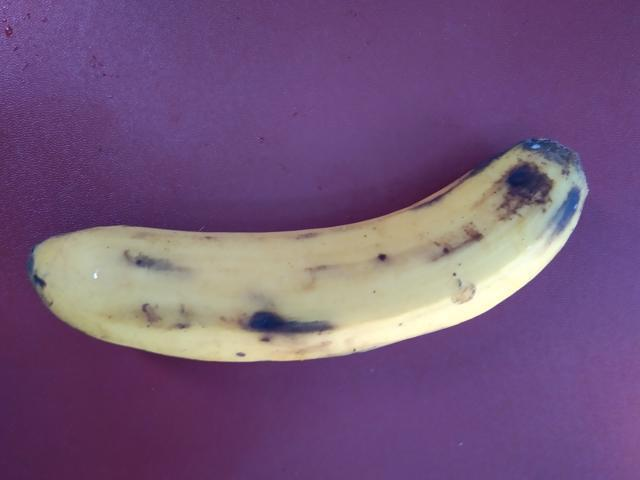ripe: (11, 119, 601, 380)
